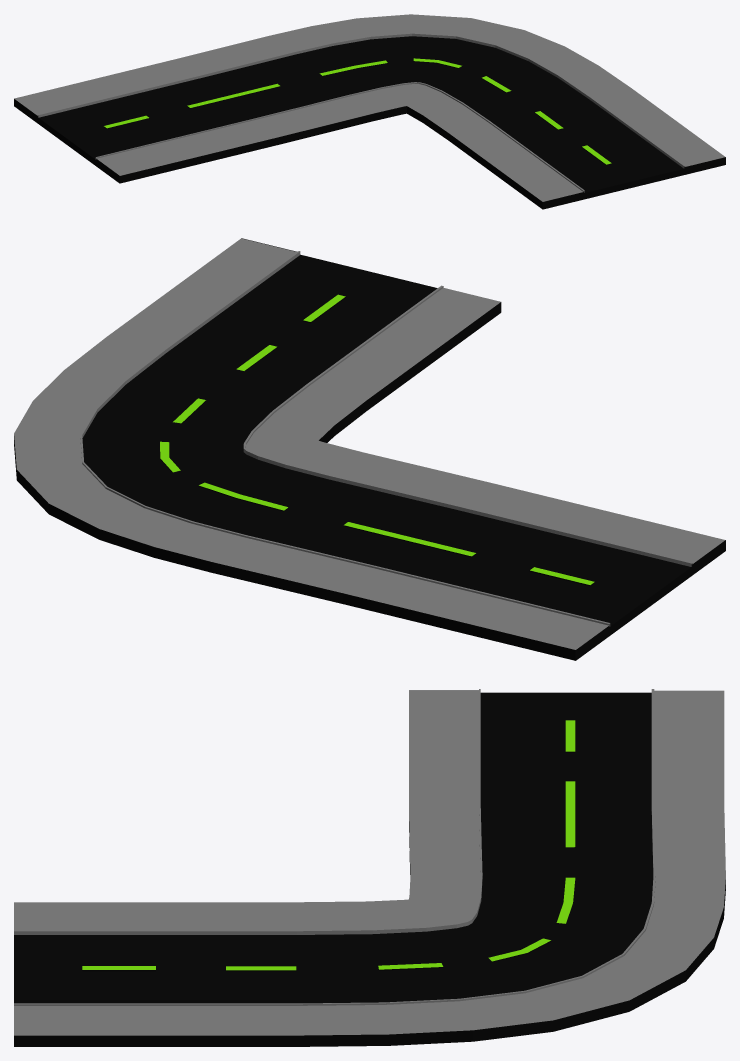
Rendered from road belok kiri.fbx.
3 views of the same model, one above another, from view 1: azimuth 30°, elevation 25°; view 2: azimuth 150°, elevation 25°; view 3: azimuth 270°, elevation 25° (orthographic). The views are drawn at different scales.
Visible parts, largest first — view 1: Cube; view 2: Cube; view 3: Cube.
Boxes of the visible parts, x1,y1,x2,y2 form: Cube: [14, 14, 725, 209]; Cube: [14, 238, 725, 660]; Cube: [14, 689, 725, 1046].
Bounding box in the file's own units: 2328 × 41.28 × 2031.
